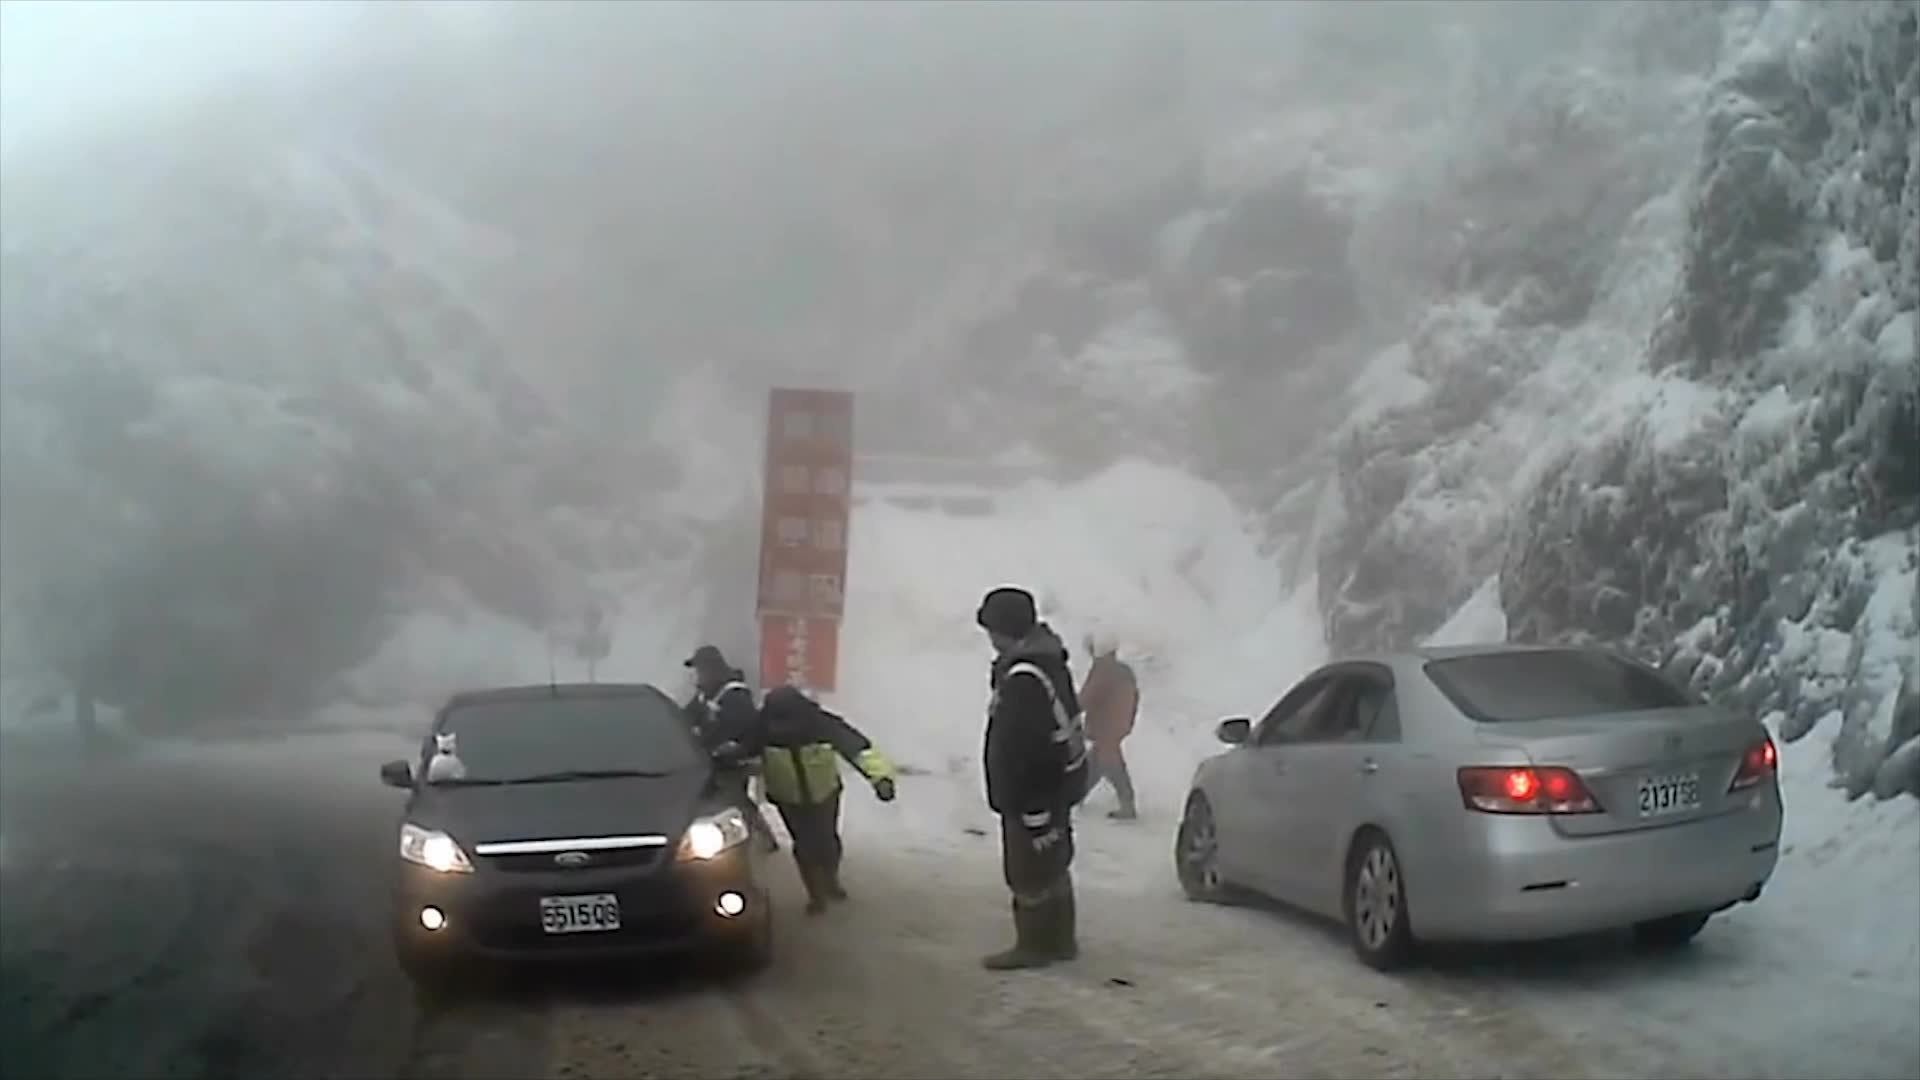pedestrian: (974, 589, 1097, 975), (709, 686, 909, 906), (679, 642, 778, 857), (1069, 627, 1149, 818)
vehicle: (1174, 644, 1784, 970), (371, 681, 774, 990)
